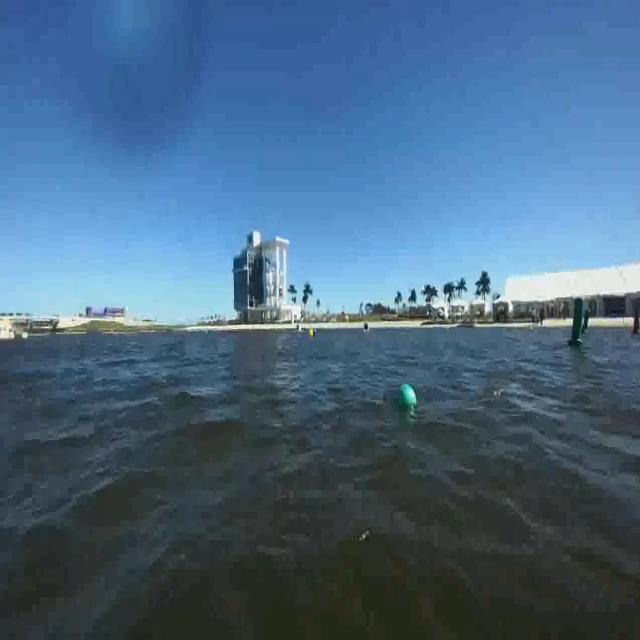green-buoy: (393, 379, 419, 415)
green-column-buoy: (568, 298, 587, 348)
